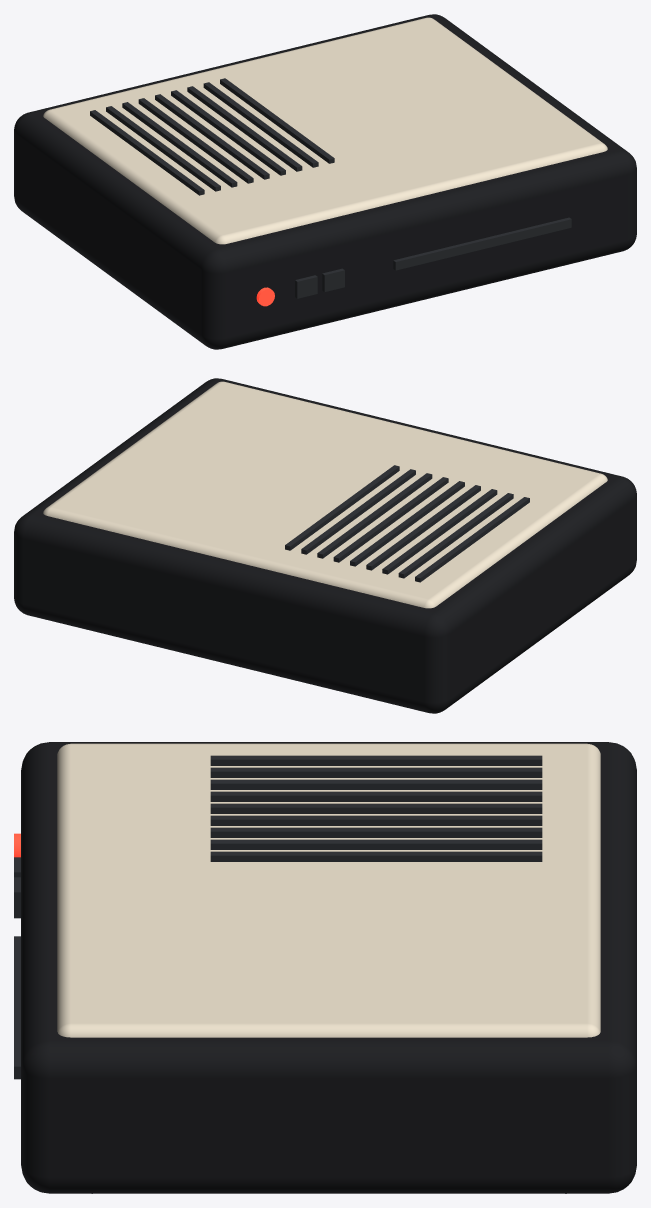
The model's file is game-console.glb.
3 renders of one model, top to bottom at view 1: azimuth 30°, elevation 25°; view 2: azimuth 150°, elevation 25°; view 3: azimuth 270°, elevation 25°, orthographic. The views are drawn at different scales.
Visible parts, largest first — view 1: body, topPanel, vent (×9), discSlot; view 2: body, topPanel, vent (×9); view 3: topPanel, body, vent (×9), discSlot.
Part boxes in pixels (<box>): body: <box>14,14,636,349</box>; topPanel: <box>43,17,607,244</box>; vent (×9): <box>90,78,334,195</box>; discSlot: <box>393,217,571,270</box>; body: <box>14,378,636,713</box>; topPanel: <box>43,381,607,608</box>; vent (×9): <box>285,465,529,582</box>; topPanel: <box>57,743,600,1037</box>; body: <box>21,742,636,1193</box>; vent (×9): <box>210,755,542,861</box>; discSlot: <box>14,936,20,1079</box>.
Size of the model in its own units: 0.32 by 0.082 by 0.263.
